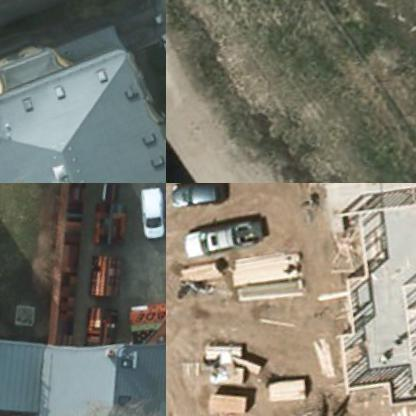car: (170, 183, 228, 208), (137, 183, 165, 234)
pickup: (181, 210, 272, 258)
